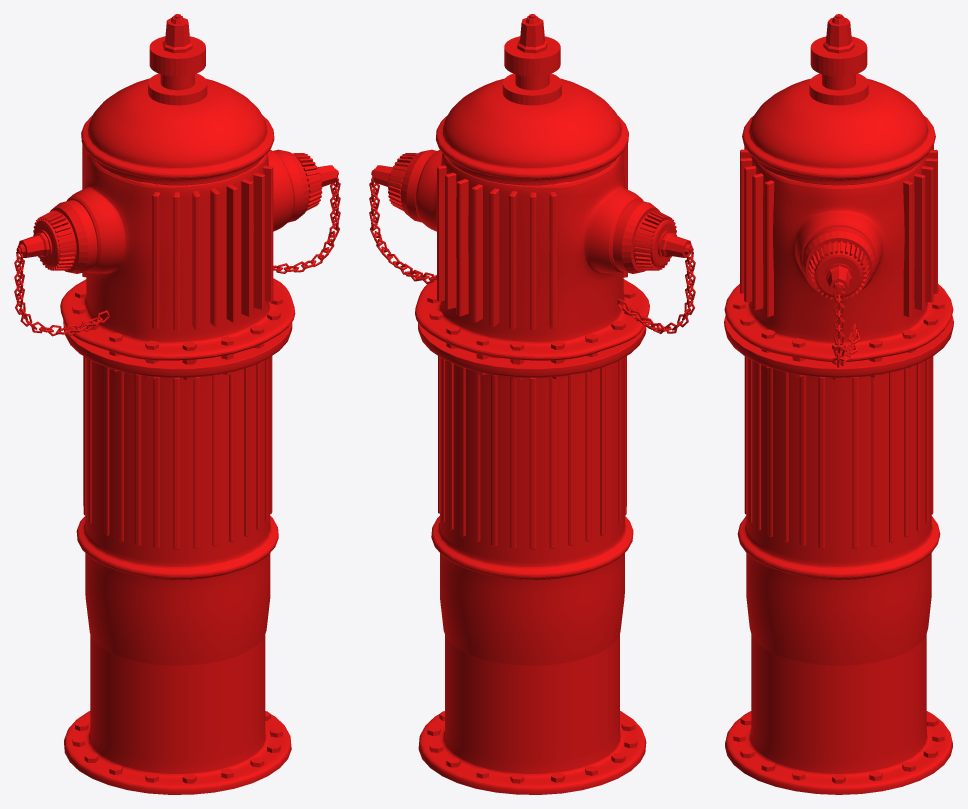
3 renders of one model, left to right at view 1: azimuth 30°, elevation 25°; view 2: azimuth 150°, elevation 25°; view 3: azimuth 270°, elevation 25°, orthographic.
Visible parts, largest first — view 1: nurbsToPo0, polySurfac, nurbsToPol, nurbsToPo1, pCylinder4, pCylinde16, pCube24, pCylinde12, pCube23, pCube25, pCube22, pCube26 (+20 smaller); view 2: nurbsToPo0, polySurfac, nurbsToPol, nurbsToPo1, pCylinder4, pCylinde16, pCube21, pCylinde12, pCube22, pCube20, pCube23, pCube11 (+20 smaller); view 3: nurbsToPo0, nurbsToPol, polySurfac, nurbsToPo1, pCylinde16, pCylinde12, pCube20, pCube25, pCube15, pCube14, pCube26, pCube19 (+20 smaller).
Boxes of the visible parts, x1,y1,x2,y2 form: nurbsToPo0: (63,320,292,665); polySurfac: (60,150,295,360); nurbsToPol: (64,634,291,794); nurbsToPo1: (81,78,274,185); pCylinder4: (33,200,97,273); pCylinde16: (273,149,322,222); pCube24: (241,179,253,316); pCylinde12: (149,36,205,76); pCube23: (226,184,237,322); pCube25: (253,173,264,309); pCube22: (210,188,220,326); pCube26: (82,144,273,301); nurbsToPo0: (418,320,646,665); polySurfac: (415,150,649,360); nurbsToPol: (418,634,646,794); nurbsToPo1: (436,78,628,185); pCylinder4: (612,200,676,273); pCylinde16: (388,149,436,222); pCube21: (456,179,468,316); pCylinde12: (504,36,560,76); pCube22: (471,184,482,322); pCube20: (445,172,456,309); pCube23: (489,188,499,326); pCube11: (529,377,536,549); nurbsToPo0: (724,315,953,665); nurbsToPol: (725,634,952,794); polySurfac: (724,155,953,361); nurbsToPo1: (742,78,935,185); pCylinde16: (802,226,875,299); pCylinde12: (810,36,867,76); pCube20: (914,173,925,310); pCube25: (752,173,763,310); pCube15: (818,377,825,548); pCube14: (799,375,806,546); pCube26: (764,180,774,317); pCube19: (903,180,912,317).
Size of the model in its own units: 16.51 by 35.42 by 10.08.
